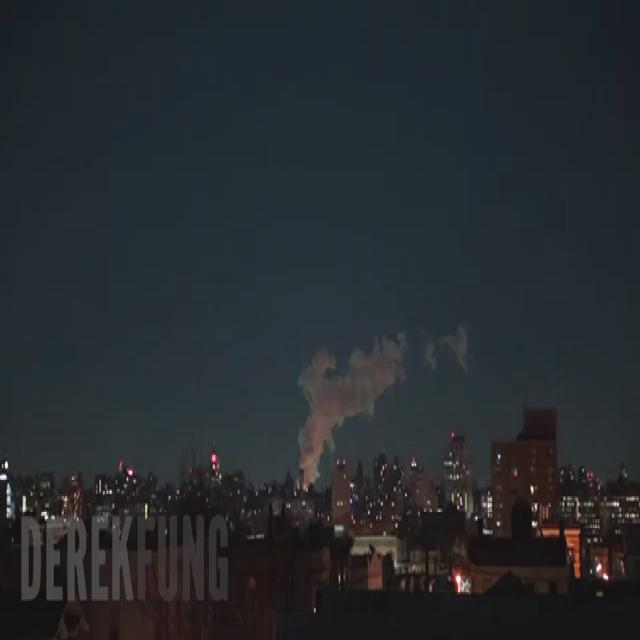smoke: (298, 332, 406, 485)
